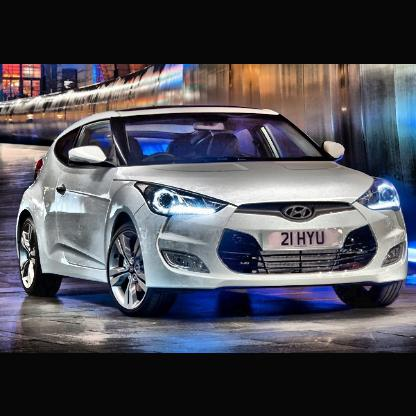Hyundai Veloster Hatchback 2012: (15, 106, 410, 314)
